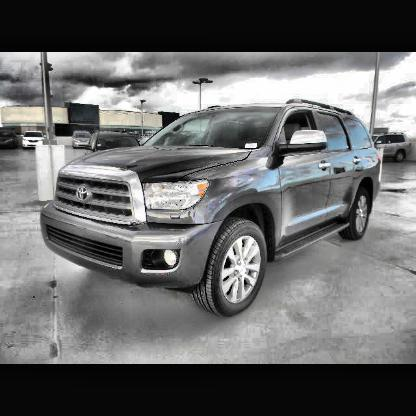Toyota Sequoia SUV 2012: (41, 101, 382, 316)
